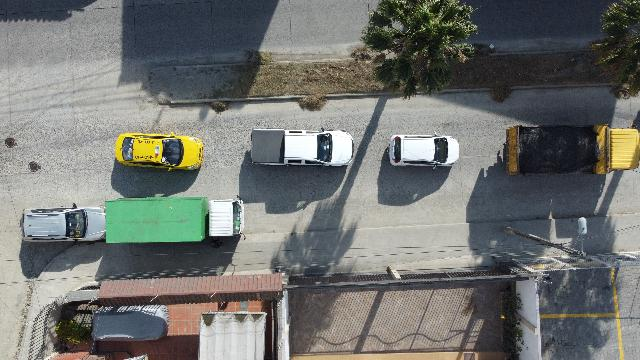Vehiculo: (250, 127, 354, 166), (115, 132, 203, 172), (22, 204, 106, 243), (389, 132, 459, 168)
